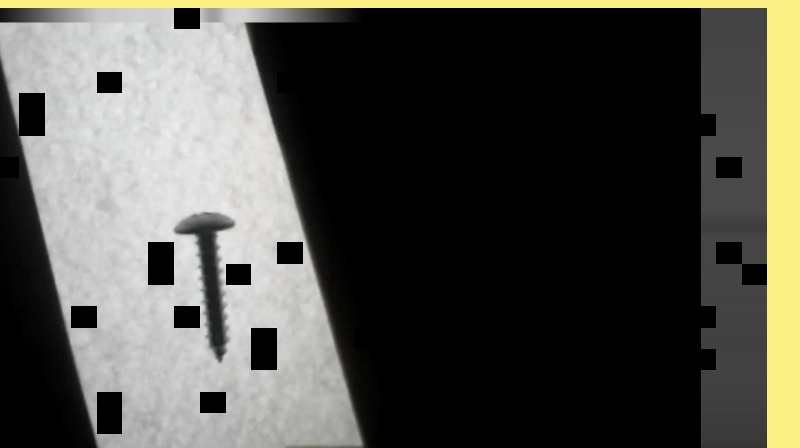S003: (169, 208, 238, 365)
